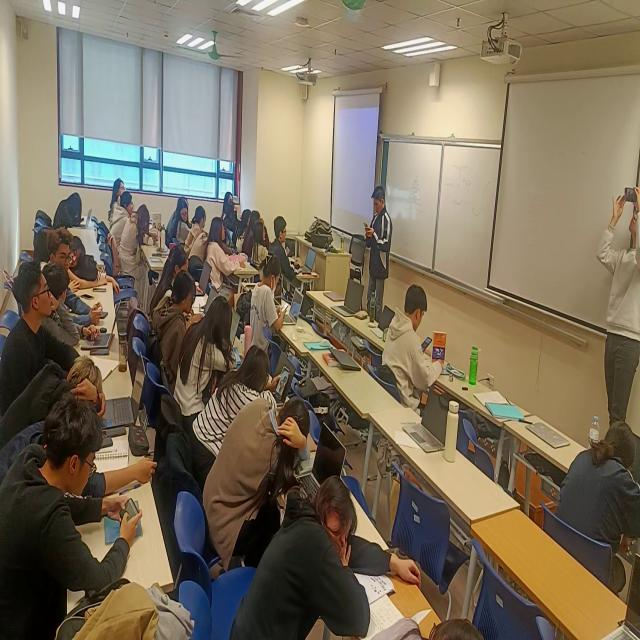raise_head: (14, 264, 58, 374)
sleep: (239, 485, 393, 640), (206, 389, 314, 537), (194, 343, 296, 445)
stand: (599, 179, 640, 431), (365, 183, 394, 318)
using_computer: (248, 259, 307, 354)
using_phone: (12, 401, 145, 605), (236, 343, 294, 408), (399, 290, 437, 378)
